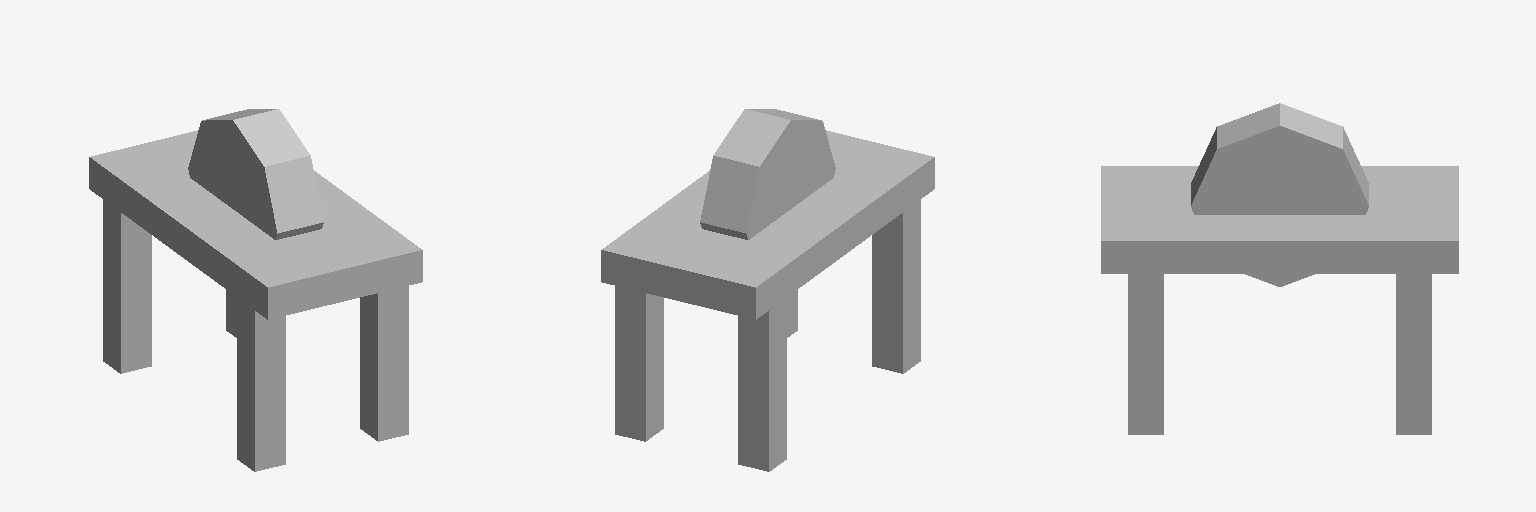
Rendered from grindstone.obj.
The picture shows the model from 3 angles: view 1: azimuth 30°, elevation 25°; view 2: azimuth 150°, elevation 25°; view 3: azimuth 270°, elevation 25°; orthographic projection.
Parts seen in each view (by area): view 1: Cube, Cylinder, Cube.001, Cube.005, Cube.003; view 2: Cube, Cylinder, Cube.005, Cube.001, Cube.006; view 3: Cube, Cylinder, Cube.003, Cube.006.
Part boxes in pixels (bbox=[...]): Cube: bbox=[89, 130, 422, 319]; Cylinder: bbox=[188, 109, 323, 239]; Cube.001: bbox=[237, 298, 285, 471]; Cube.005: bbox=[103, 200, 151, 373]; Cube.003: bbox=[360, 286, 408, 441]; Cube: bbox=[601, 130, 934, 319]; Cylinder: bbox=[700, 109, 835, 239]; Cube.005: bbox=[738, 298, 786, 471]; Cube.001: bbox=[872, 200, 920, 373]; Cube.006: bbox=[615, 286, 663, 441]; Cube: bbox=[1101, 166, 1458, 273]; Cylinder: bbox=[1191, 103, 1368, 286]; Cube.003: bbox=[1128, 274, 1163, 434]; Cube.006: bbox=[1396, 274, 1431, 434].
Size of the model in its own units: 2 by 3.5 by 4.